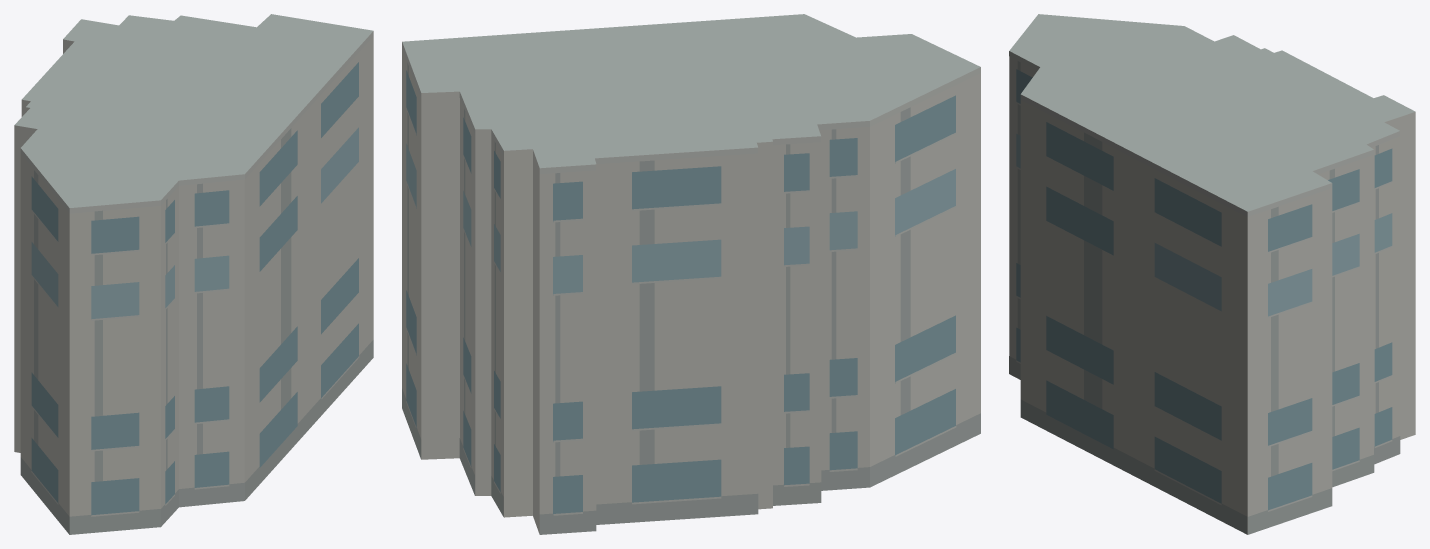
Rendered from survey-upis-32603220.glb.
3 views of the same model, side by side, from view 1: azimuth 30°, elevation 25°; view 2: azimuth 150°, elevation 25°; view 3: azimuth 270°, elevation 25° (orthographic). The views are drawn at different scales.
Parts seen in each view (by area): view 1: survey-upis-32603220.tmp; view 2: survey-upis-32603220.tmp; view 3: survey-upis-32603220.tmp.
Part boxes in pixels (bbox=[...]): survey-upis-32603220.tmp: bbox=[14, 14, 373, 534]; survey-upis-32603220.tmp: bbox=[402, 14, 980, 534]; survey-upis-32603220.tmp: bbox=[1009, 14, 1415, 534].
Bounding box in the file's own units: 19.31 × 14.7 × 16.77.
